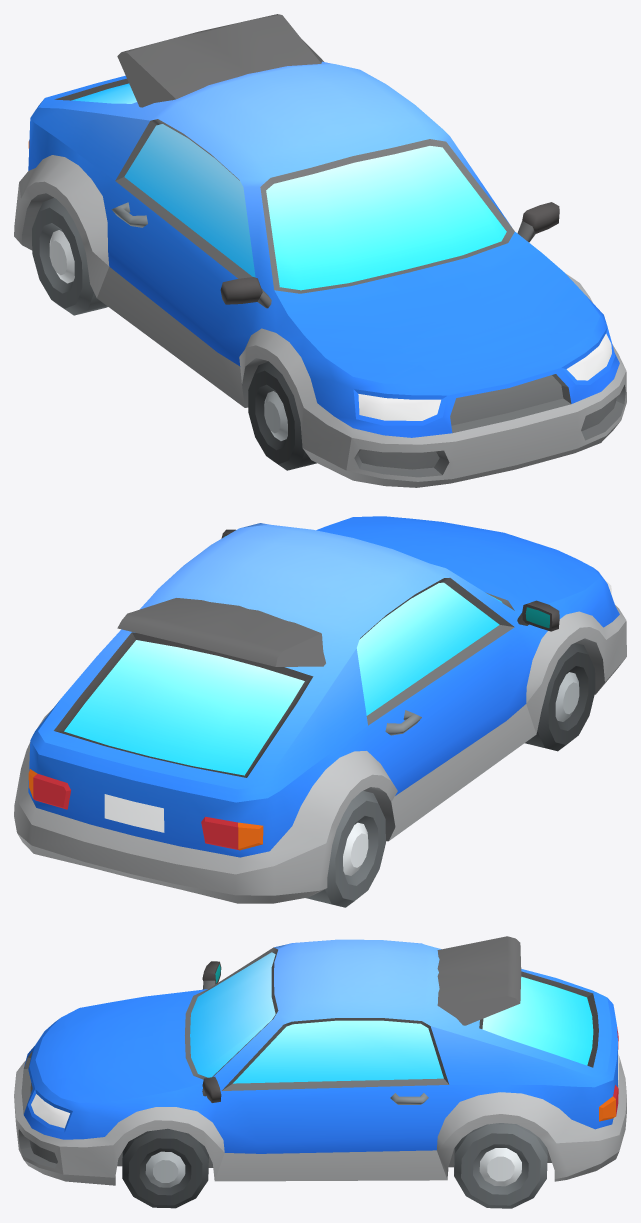
The model's file is city2-car-39.glb.
3 renders of one model, top to bottom at view 1: azimuth 30°, elevation 25°; view 2: azimuth 150°, elevation 25°; view 3: azimuth 270°, elevation 25°, orthographic. The views are drawn at different scales.
Parts seen in each view (by area): view 1: Car_39, Wheel_110, Wheel_109; view 2: Car_39, Wheel_110, Wheel_109; view 3: Car_39, Wheel_112, Wheel_111.
Boxes of the visible parts, <box> form: Car_39: <box>14,14,626,487</box>; Wheel_110: <box>32,198,107,315</box>; Wheel_109: <box>248,361,316,470</box>; Car_39: <box>14,516,626,903</box>; Wheel_110: <box>306,791,385,907</box>; Wheel_109: <box>525,643,595,751</box>; Car_39: <box>14,936,626,1185</box>; Wheel_112: <box>454,1123,547,1208</box>; Wheel_111: <box>122,1128,208,1208</box>.
Size of the model in its own units: 2.44 by 1.67 by 4.9.
2 materials, 2 textured.
